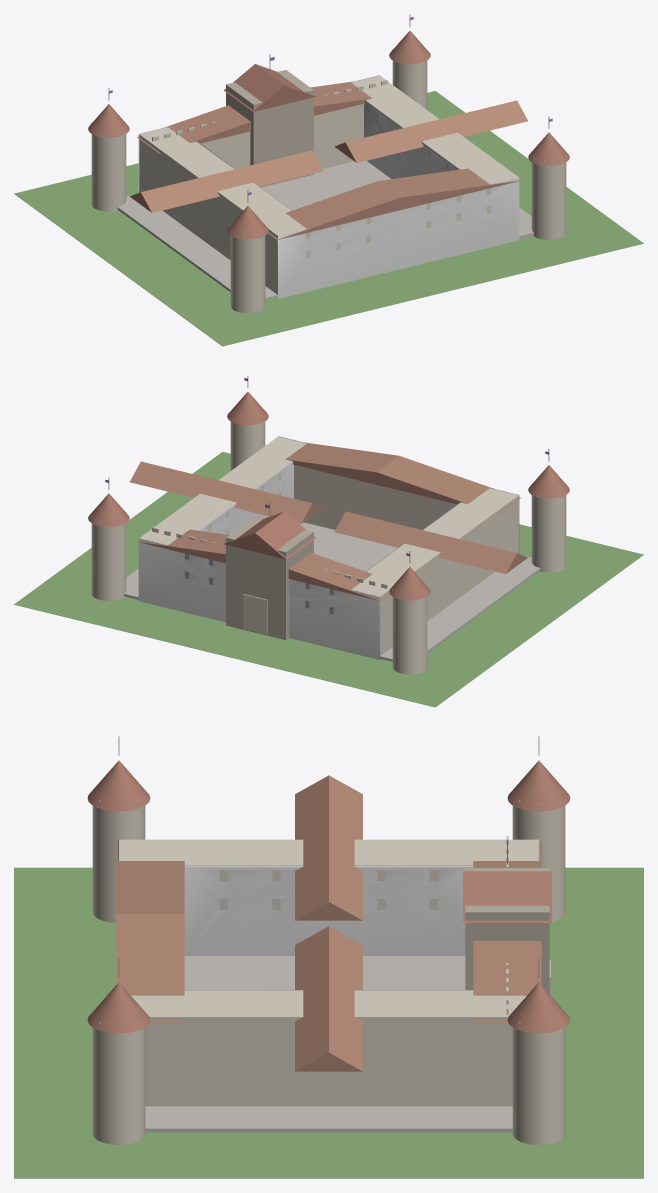
The model's file is old_royal_palace.glb.
The picture shows the model from 3 angles, top to bottom: view 1: azimuth 30°, elevation 25°; view 2: azimuth 150°, elevation 25°; view 3: azimuth 270°, elevation 25°; orthographic projection. The views are drawn at different scales.
Visible parts, largest first — view 1: lawn, back_wing_wall, body (×4), foundation, left_wing_body, back_wing_roof, front_wing_body, gatehouse_body, right_wing_roof, left_wing_roof, roof (×4), front_wing_roof (+4 smaller); view 2: lawn, front_wing_wall, body (×4), back_wing_body, left_wing_body, foundation, back_wing_roof, gatehouse_body, left_wing_roof, right_wing_roof, roof (×4), front_wing_roof (+5 smaller); view 3: lawn, right_wing_body, left_inner_wall, body (×4), foundation, back_wing_roof, right_wing_roof, left_wing_roof, roof (×4), left_wing_body, back_wing_body, front_wing_body (+3 smaller).
Boxes of the visible parts, x1,y1,x2,y2 form: lawn: (14, 91, 643, 346); back_wing_wall: (277, 177, 519, 298); body (×4): (91, 60, 566, 313); foundation: (117, 161, 533, 300); left_wing_body: (160, 141, 291, 260); back_wing_roof: (268, 168, 520, 239); front_wing_body: (139, 75, 400, 192); gatehouse_body: (226, 70, 313, 187); right_wing_roof: (334, 100, 527, 162); left_wing_roof: (130, 150, 323, 212); roof (×4): (88, 31, 569, 239); front_wing_roof: (137, 81, 372, 153); lawn: (14, 452, 643, 707); front_wing_wall: (138, 538, 380, 659); body (×4): (91, 421, 566, 674); back_wing_body: (257, 436, 518, 553); left_wing_body: (366, 502, 497, 621); foundation: (124, 522, 540, 661); back_wing_roof: (285, 442, 520, 514); gatehouse_body: (226, 517, 313, 639); left_wing_roof: (334, 511, 527, 573); right_wing_roof: (130, 461, 323, 523); roof (×4): (88, 392, 569, 600); front_wing_roof: (137, 529, 389, 600); lawn: (14, 867, 643, 1178); right_wing_body: (182, 990, 475, 1106); left_inner_wall: (184, 865, 473, 955); body (×4): (92, 806, 565, 1144); foundation: (145, 956, 512, 1132); back_wing_roof: (116, 843, 184, 1022); right_wing_roof: (295, 926, 362, 1071); left_wing_roof: (295, 775, 362, 920); roof (×4): (87, 760, 570, 1033); left_wing_body: (182, 839, 475, 909); back_wing_body: (119, 839, 181, 1106); front_wing_body: (476, 839, 538, 1106).
Bounding box in the file's own units: 70 × 19.25 × 60.
